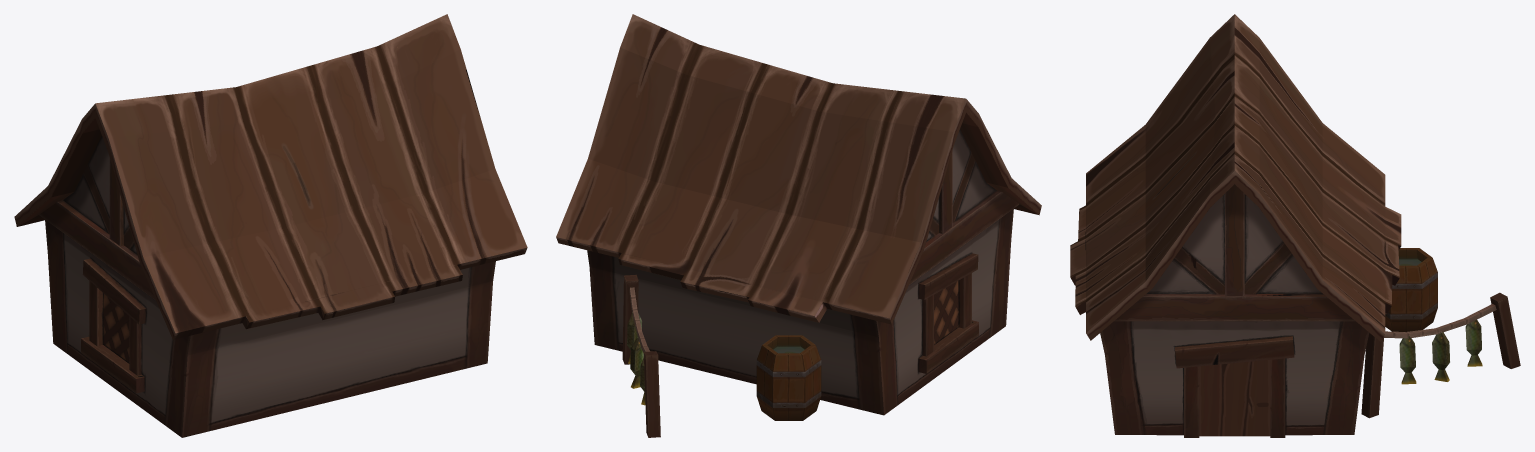
Rendered from low_poly_fishermans_hut.glb.
The picture shows the model from 3 angles, left to right: view 1: azimuth 30°, elevation 25°; view 2: azimuth 150°, elevation 25°; view 3: azimuth 270°, elevation 25°; orthographic projection. The views are drawn at different scales.
Parts seen in each view (by area): view 1: Cube.000, Cube.004; view 2: Cube.000, Cube.004, Cylinder, Cube, Cube.002; view 3: Cube.000, Cube.004, Cube.005, Cube, Cylinder, Cube.002, Cube.001, Cube.003.
Boxes of the visible parts, bbox=[...] form: Cube.000: bbox=[14, 14, 527, 339]; Cube.004: bbox=[45, 219, 495, 437]; Cube.000: bbox=[556, 14, 1041, 324]; Cube.004: bbox=[587, 209, 1013, 415]; Cylinder: bbox=[756, 335, 821, 420]; Cube: bbox=[622, 274, 660, 437]; Cube.002: bbox=[630, 337, 643, 388]; Cube.000: bbox=[1070, 14, 1401, 341]; Cube.004: bbox=[1100, 321, 1369, 437]; Cube.005: bbox=[1199, 360, 1270, 436]; Cube: bbox=[1361, 292, 1520, 418]; Cylinder: bbox=[1385, 248, 1437, 331]; Cube.002: bbox=[1432, 332, 1449, 381]; Cube.001: bbox=[1399, 336, 1416, 384]; Cube.003: bbox=[1465, 319, 1482, 366].
Size of the model in its own units: 385 by 311 by 459.
6 materials, 6 textured.
